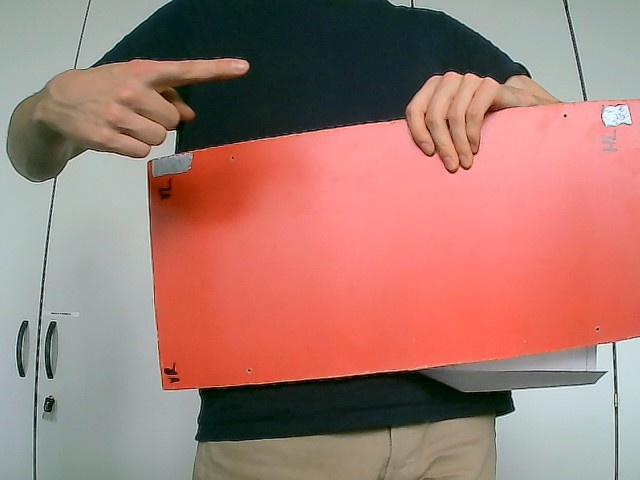left: (32, 55, 251, 160)
no_gesture: (404, 67, 513, 173)
